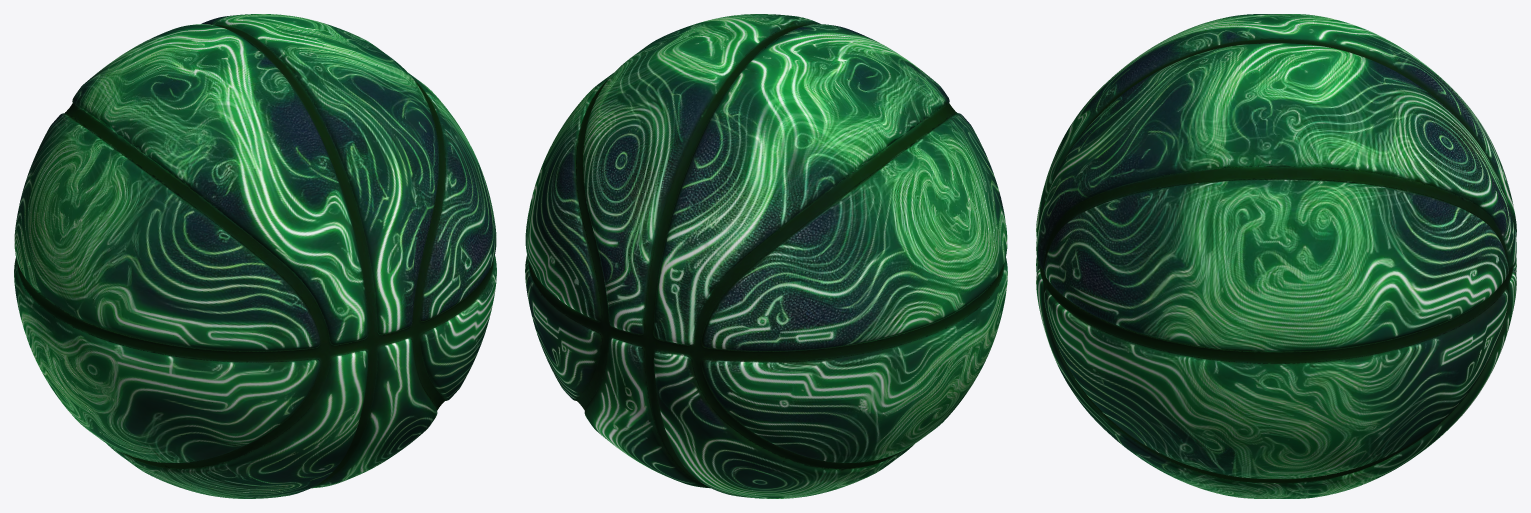
The model's file is basketball-verde.glb.
3 renders of one model, left to right at view 1: azimuth 30°, elevation 25°; view 2: azimuth 150°, elevation 25°; view 3: azimuth 270°, elevation 25°, orthographic.
Visible parts, largest first — view 1: node_0; view 2: node_0; view 3: node_0.
Boxes of the visible parts, x1=… form: node_0: x1=14, y1=14, x2=496, y2=498; node_0: x1=525, y1=14, x2=1007, y2=498; node_0: x1=1036, y1=14, x2=1516, y2=498.
Bounding box in the file's own units: 1.18 × 1.18 × 1.17.
Materials: 1 (1 with a texture image).
